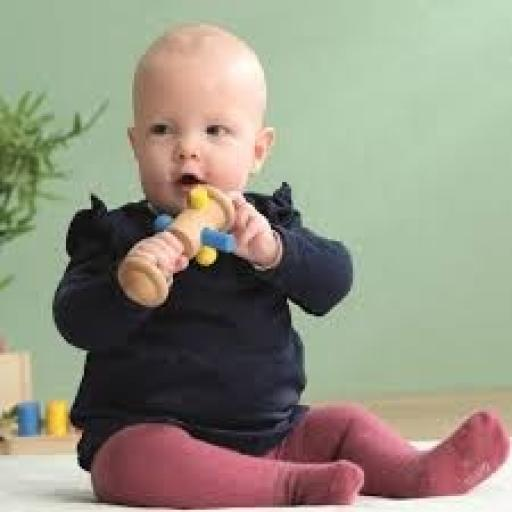baby: (55, 26, 509, 507)
